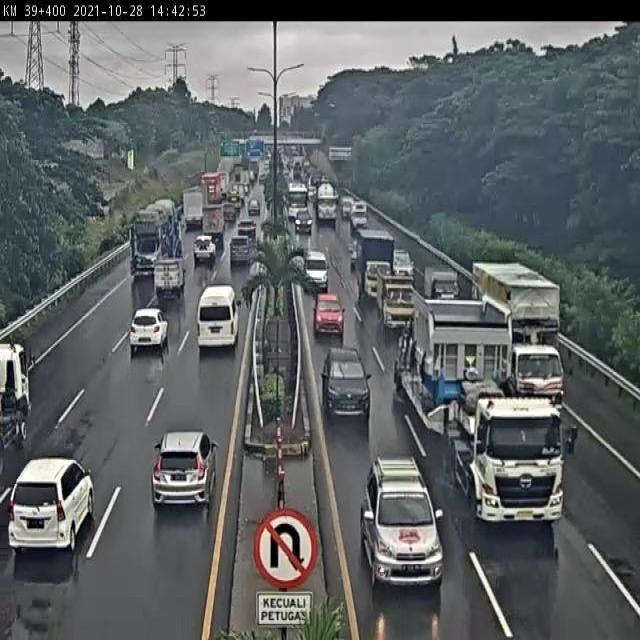bus-s-: (301, 247, 329, 292)
car: (358, 459, 444, 592), (7, 449, 95, 552), (150, 429, 217, 511), (319, 346, 374, 418), (197, 285, 238, 352), (128, 309, 168, 356), (313, 298, 346, 338), (192, 235, 216, 265), (392, 248, 415, 279)
small truck: (152, 261, 183, 300)
truck-l-: (474, 258, 565, 410)
truck-m-: (355, 233, 396, 300), (375, 273, 418, 331)
truck-s-: (421, 264, 465, 308)
truck-xl-: (392, 303, 563, 537)
